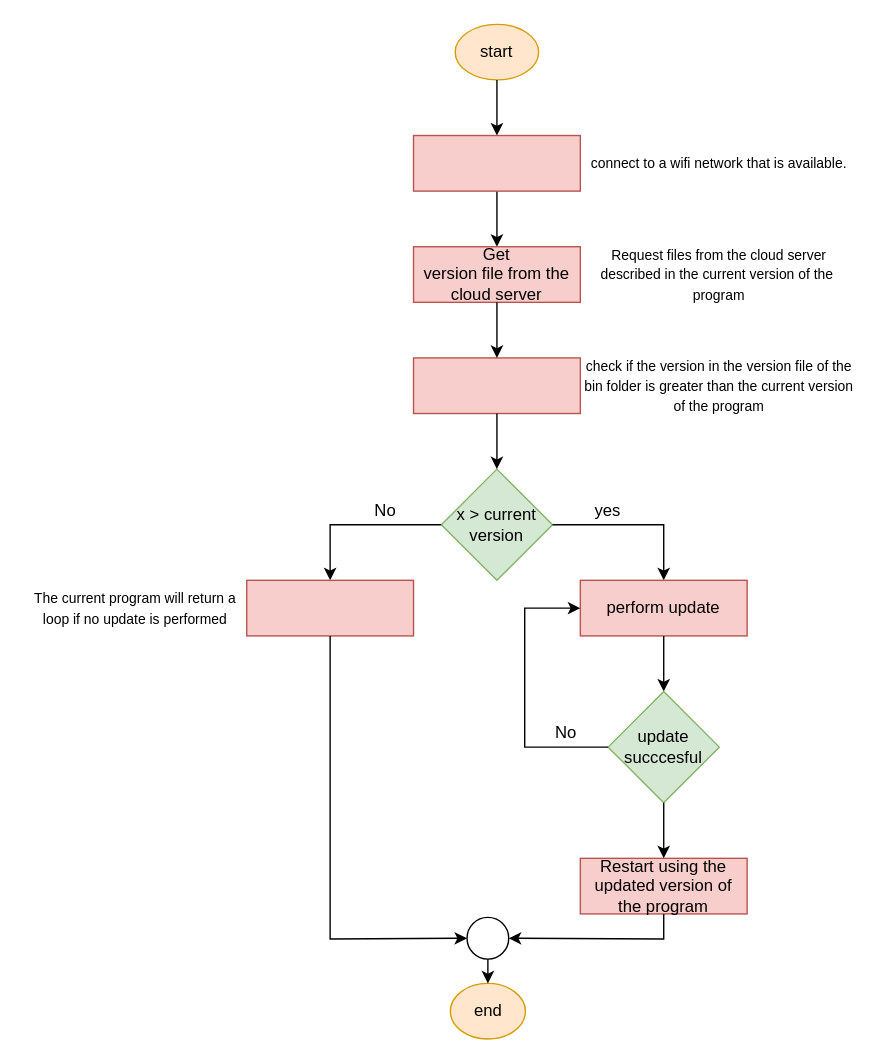
This 881x1063 diagram has some shape labels left out. The box of each missing label's shape, as (x1, y1, x2, y2) in pixels:
connect to wifi: (412, 134, 580, 191)
run the current program: (245, 579, 414, 636)
x = Check the contents of version file: (412, 357, 580, 414)
